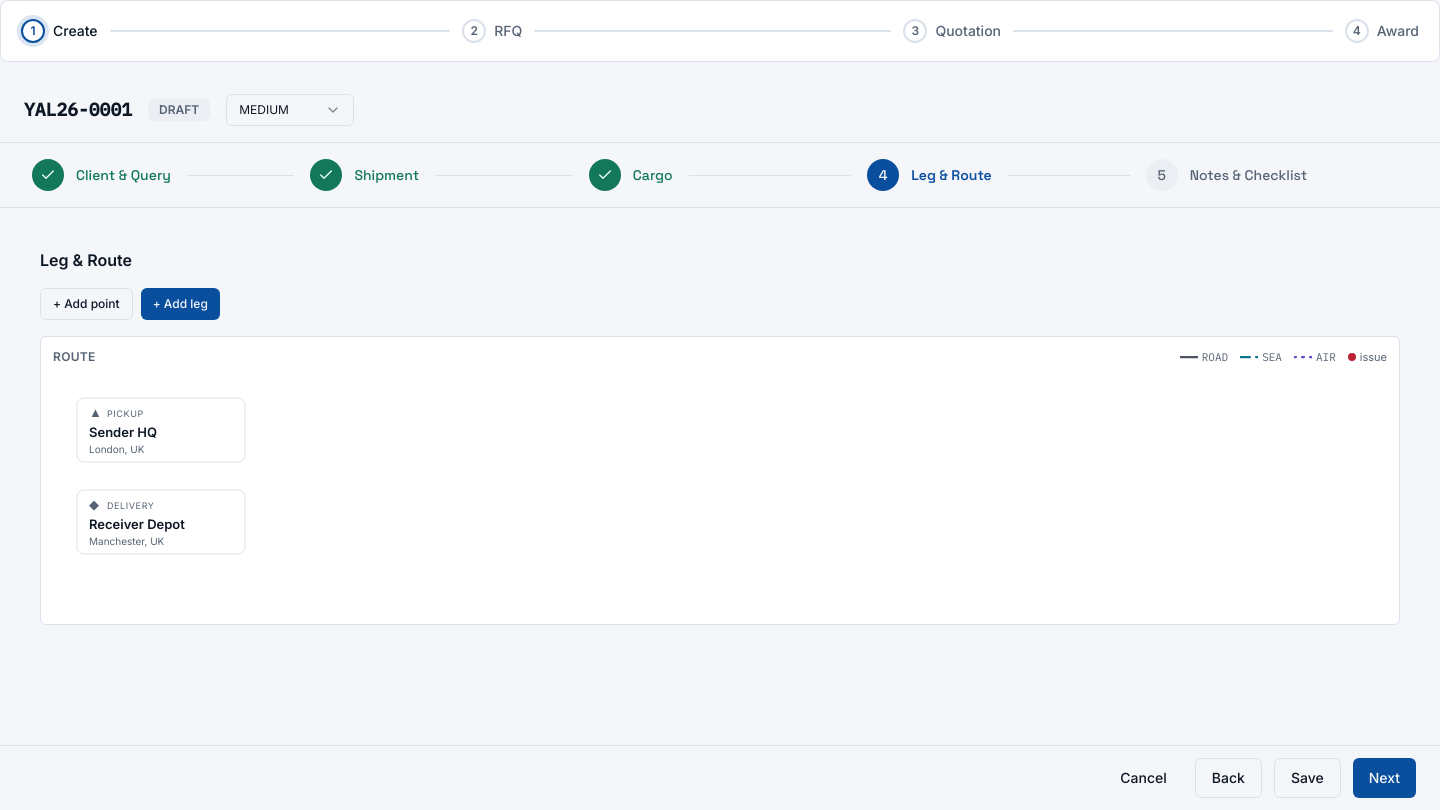
Test: LegsStep › clicking '+ Add leg' toolbar button opens the LegEditor dialog
This screenshot has width=1440, height=810.
Check: the text "YAL26-0001" is shown, box [24,98,132,121]
Click the button "4 Leg & Route": point(929, 175) [859,155,1000,195]
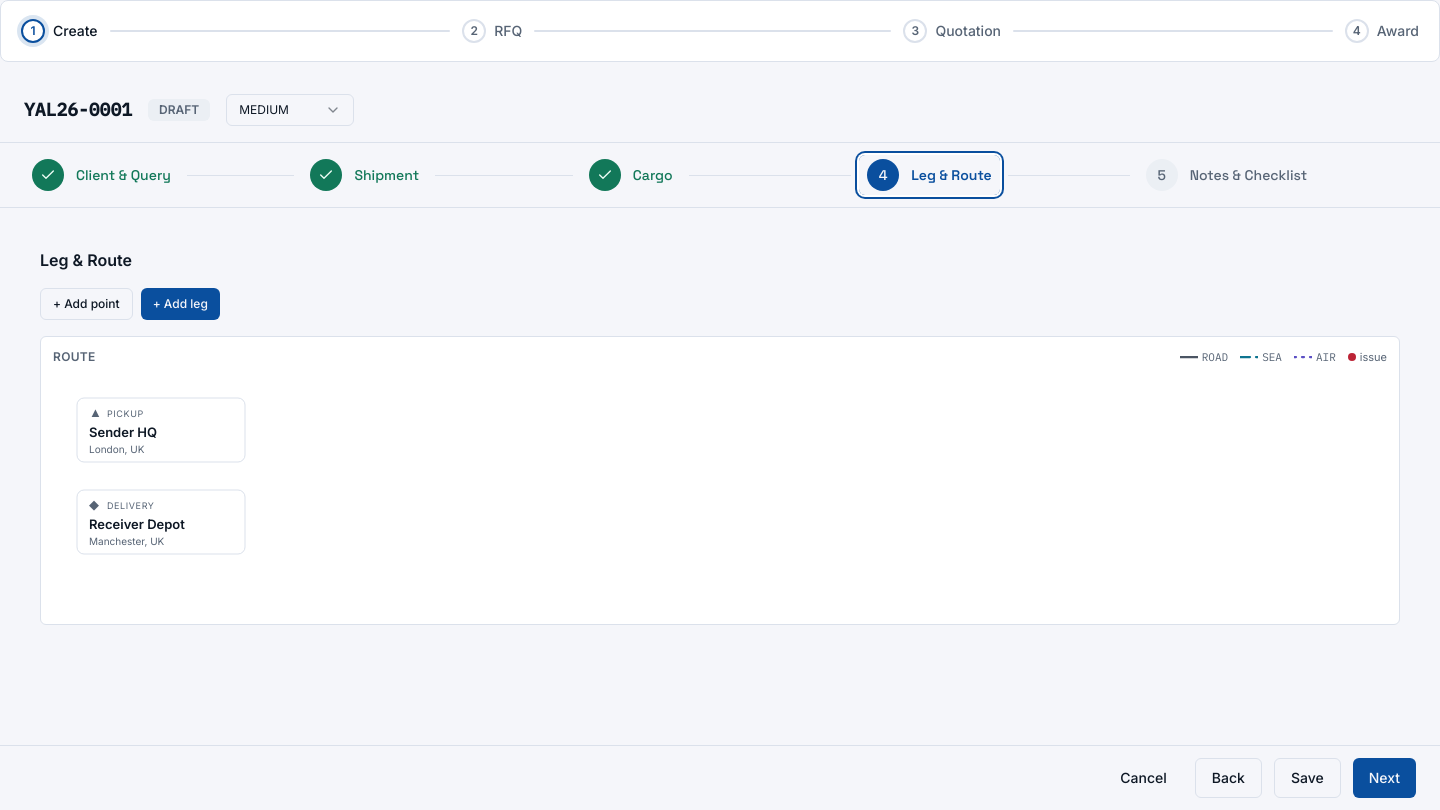
Click the button "+ Add leg": point(180, 304) [141,288,220,320]
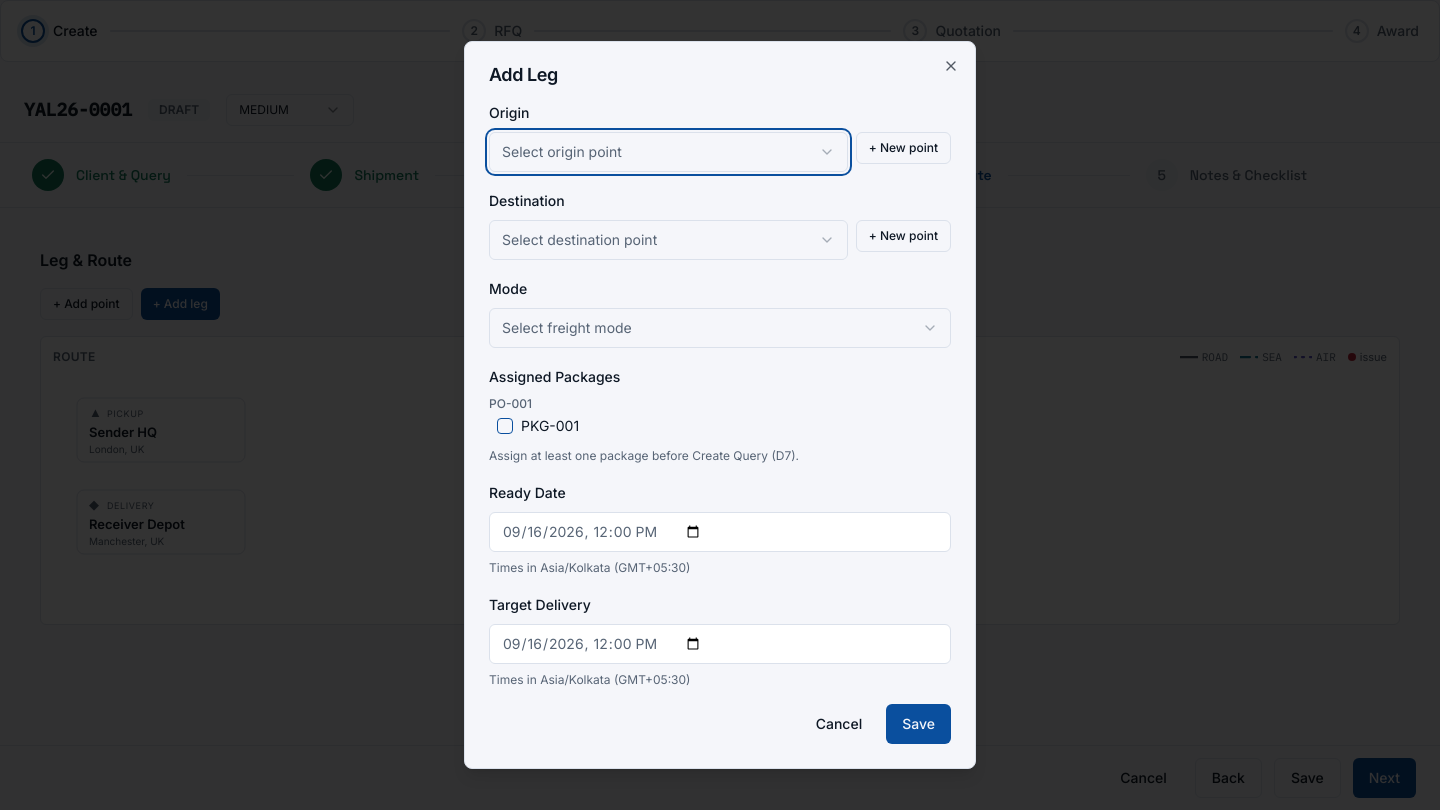
Check: the dialog is shown, box [464,41,976,769]
